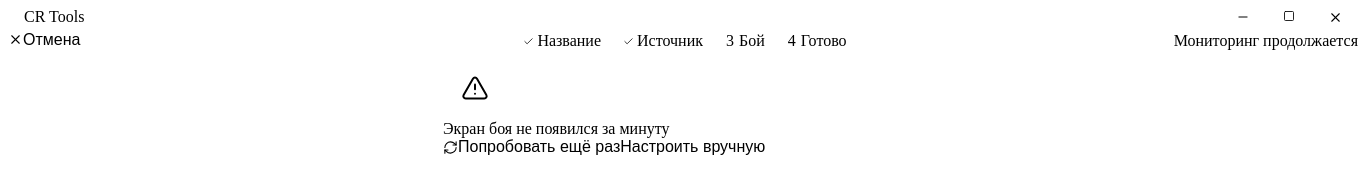
Test case: automatic setup: failures › turns a retry that finds the window gone into the source-lost screen
Click the button "Попробовать ещё раз" at (532, 147), box [443,138,620,156]
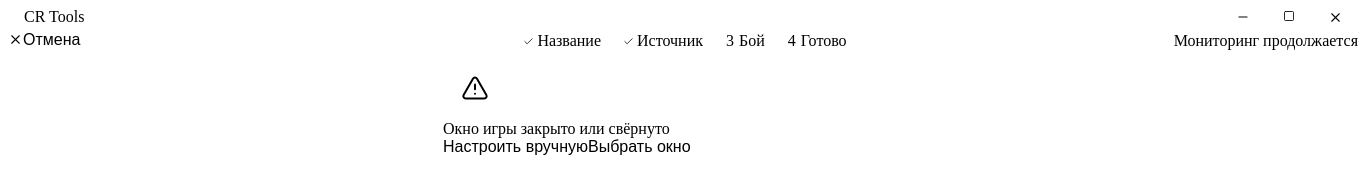
Expected: the button "Выбрать окно" is enabled, [588,138,690,156]
Expected: the button "Попробовать ещё раз" is gone
